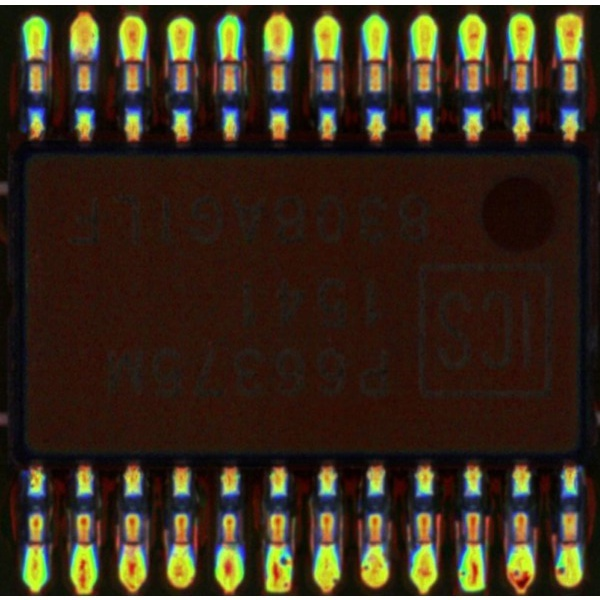Bad_podu: (321, 42, 336, 72), (126, 526, 138, 561), (126, 41, 139, 71), (31, 40, 43, 71), (419, 44, 432, 72), (516, 44, 529, 72), (224, 40, 235, 72), (31, 525, 41, 557)
